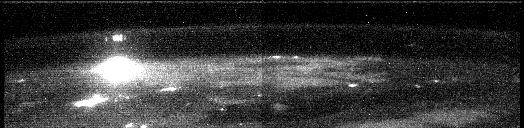positive: (102, 31, 128, 46)
